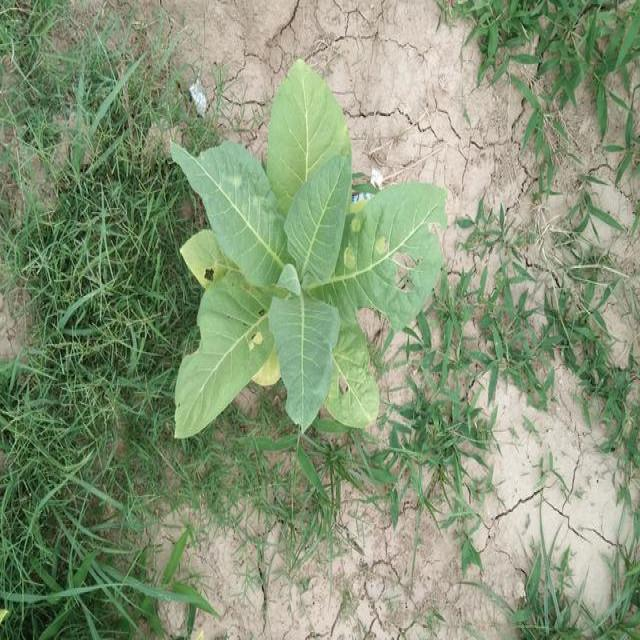crop: (160, 59, 454, 449)
